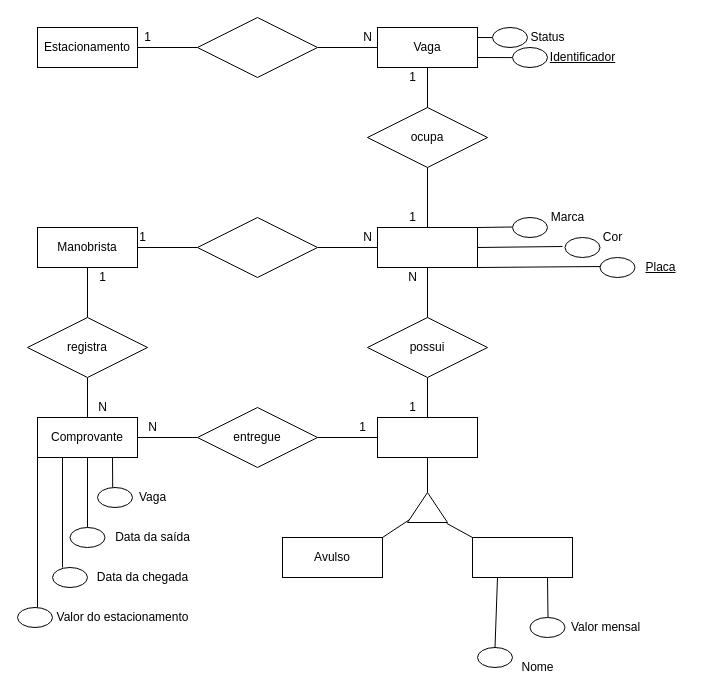
The diagram is 702 pixels wide and 695 high, and some of its shapes have lost their labels. Here are the shapes that lost their labels. From the top down, the box of each, then its label:
(196, 16, 318, 78): aluga
(196, 216, 318, 278): estaciona
(376, 226, 478, 268): Carro
(376, 416, 478, 458): Cliente
(472, 536, 572, 578): Mensalista
